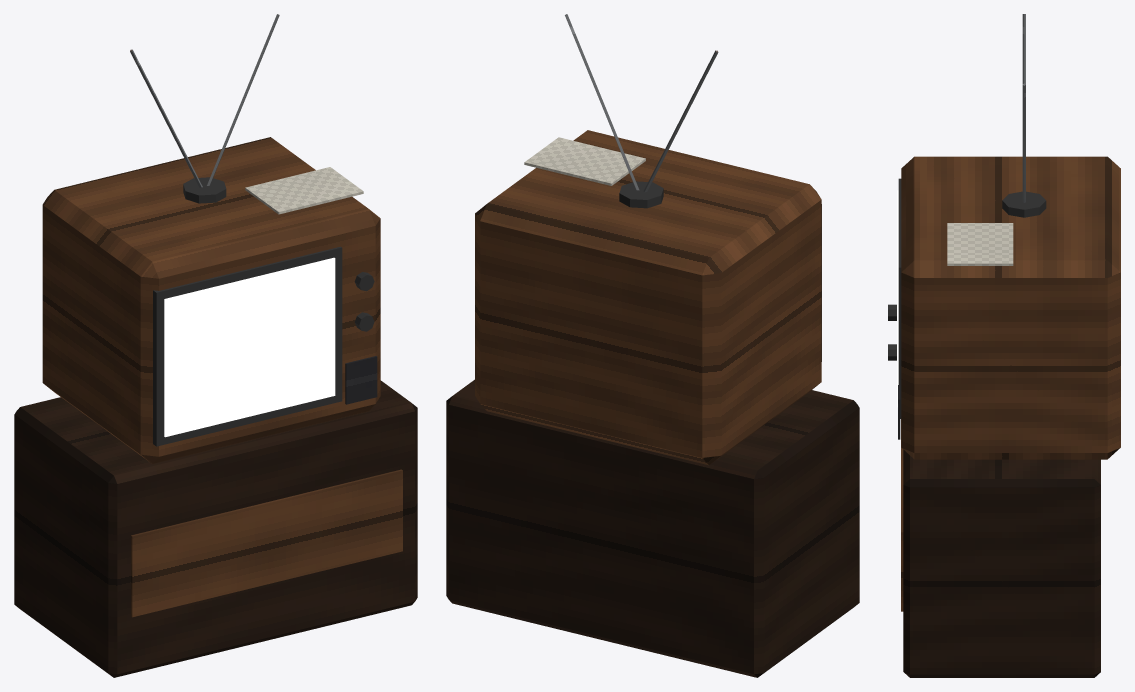
Rendered from crt_tv.glb.
3 views of the same model, side by side, from view 1: azimuth 30°, elevation 25°; view 2: azimuth 150°, elevation 25°; view 3: azimuth 270°, elevation 25° (orthographic). The views are drawn at different scales.
Visible parts, largest first — view 1: crt_tv; view 2: crt_tv; view 3: crt_tv.
Boxes of the visible parts, left/top/right/bottom form: crt_tv: left=14, top=14, right=417, bottom=677; crt_tv: left=446, top=14, right=859, bottom=677; crt_tv: left=888, top=14, right=1120, bottom=677.
Size of what is drawn, in the model's own units: 0.8 by 1.4 by 0.53.
7 materials, 5 textured.
